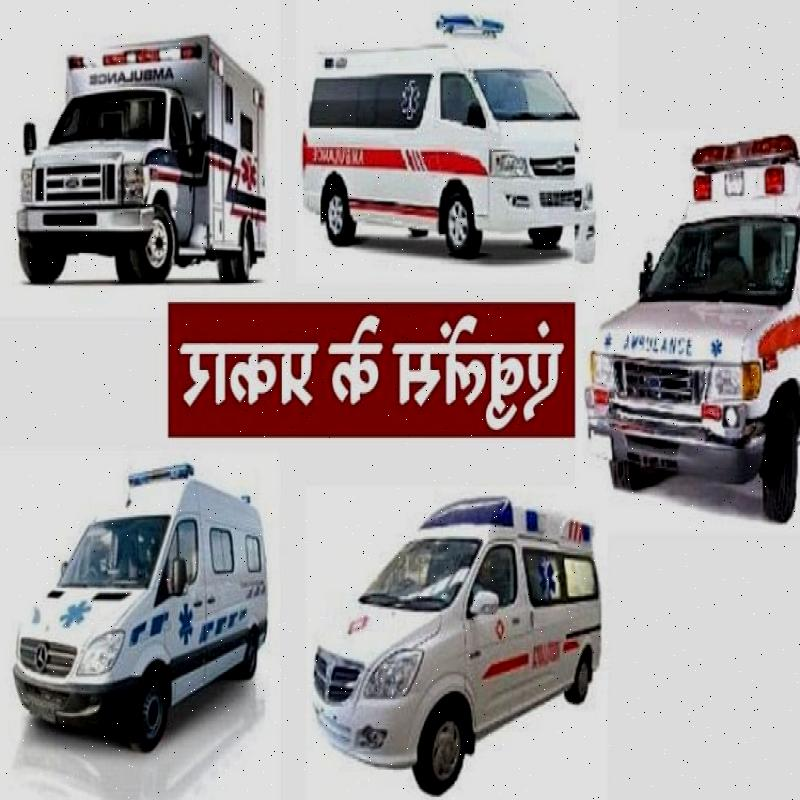ambulance: (300, 460, 608, 800), (9, 448, 279, 764), (8, 4, 268, 285), (307, 0, 583, 262)
